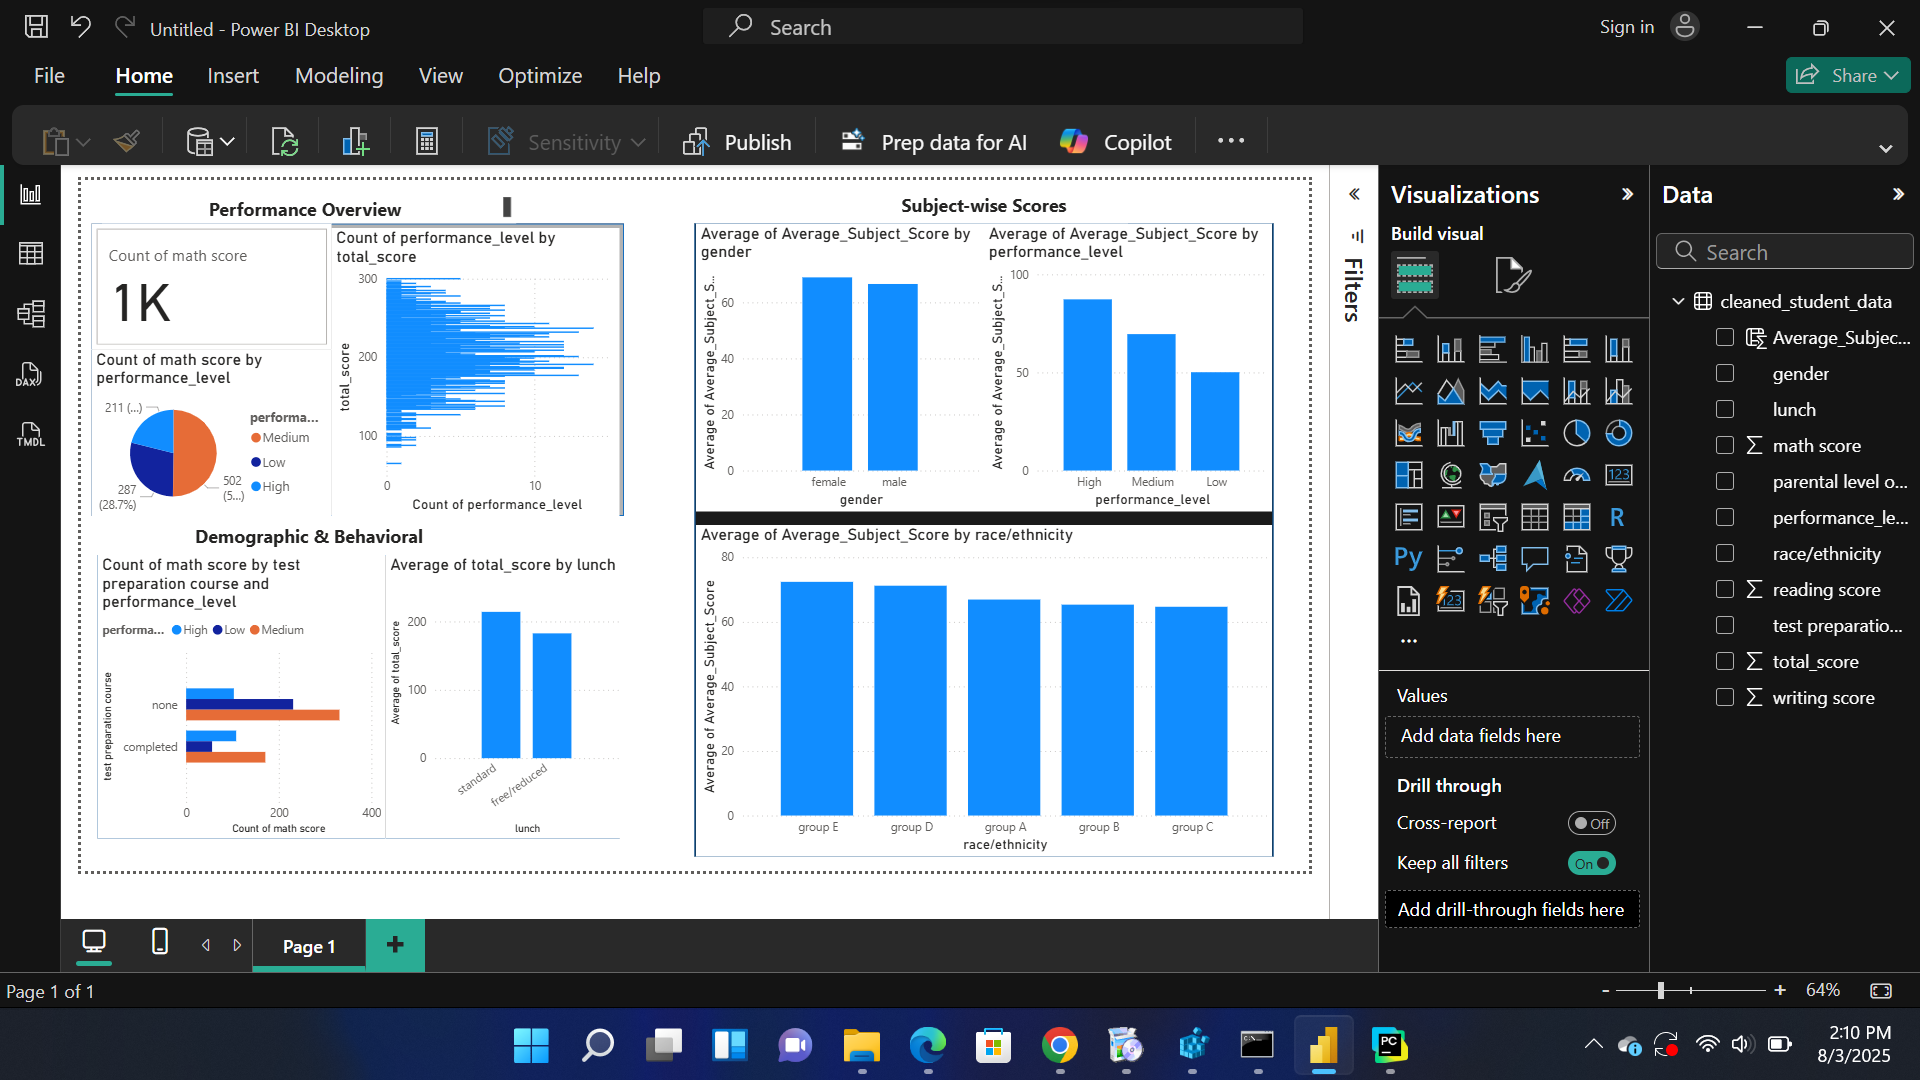

What the dashboard file says about the page in this screenshot:
{"tool":"powerbi","page":{"name":"Page 1","canvas":[1280,720],"ordinal":0},"visuals":[{"type":"shape","box":[10.9,45.3,554.7,304.7],"z":0},{"type":"shape","box":[17.2,390.6,543.8,295.3],"z":1000},{"type":"shape","box":[639.1,45.3,603.1,659.4],"z":2000},{"type":"textbox","box":[21.9,12.5,431.2,32.8],"z":3000},{"type":"textbox","box":[87.5,353.1,300,37.5],"z":4000},{"type":"textbox","box":[790.6,7.8,300,37.5],"z":5000},{"type":"cardVisual","fields":{"Data":["CountNonNull(cleaned_student_data.math score)"]},"box":[10.9,45.3,250,131.2],"z":6000},{"type":"clusteredColumnChart","fields":{"Category":["cleaned_student_data.performance_level"],"Y":["Avg(cleaned_student_data.Average_Subject_Score)"]},"box":[940.6,45.3,300,300],"z":7000},{"type":"pieChart","fields":{"Category":["cleaned_student_data.performance_level"],"Y":["CountNonNull(cleaned_student_data.math score)"]},"box":[10.9,176.6,250,176.6],"z":8000},{"type":"clusteredBarChart","fields":{"Category":["cleaned_student_data.total_score"],"Y":["CountNonNull(cleaned_student_data.performance_level)"]},"box":[260.9,50,300,300],"z":9000},{"type":"clusteredBarChart","fields":{"Y":["CountNonNull(cleaned_student_data.math score)"],"Category":["cleaned_student_data.test preparation course"],"Series":["cleaned_student_data.performance_level"]},"box":[17.2,390.6,300,295.3],"z":9002},{"type":"columnChart","fields":{"Category":["cleaned_student_data.lunch"],"Y":["Avg(cleaned_student_data.total_score)"]},"box":[317.2,390.6,248.4,295.3],"z":9003},{"type":"clusteredColumnChart","fields":{"Category":["cleaned_student_data.gender"],"Y":["Avg(cleaned_student_data.Average_Subject_Score)"]},"box":[640.6,45.3,300,300],"z":9004},{"type":"clusteredColumnChart","fields":{"Category":["cleaned_student_data.race/ethnicity"],"Y":["Avg(cleaned_student_data.Average_Subject_Score)"]},"box":[640.6,359.4,600,345.3],"z":9005}]}

Visuals, with their boxes on the page's 1280x720 design canvas (x1, y1, x2, y2). These are canvas units, not pixel positions in the 1920x1080 screenshot, which may show the page scaled, cropped or inside an application window:
shape: bbox=[11, 45, 566, 350]
shape: bbox=[17, 391, 561, 686]
shape: bbox=[639, 45, 1242, 705]
textbox: bbox=[22, 12, 453, 45]
textbox: bbox=[88, 353, 388, 391]
textbox: bbox=[791, 8, 1091, 45]
cardVisual - CountNonNull(cleaned_student_data.math score): bbox=[11, 45, 261, 176]
clusteredColumnChart - cleaned_student_data.performance_level x Avg(cleaned_student_data.Average_Subject_Score): bbox=[941, 45, 1241, 345]
pieChart - cleaned_student_data.performance_level x CountNonNull(cleaned_student_data.math score): bbox=[11, 177, 261, 353]
clusteredBarChart - cleaned_student_data.total_score x CountNonNull(cleaned_student_data.performance_level): bbox=[261, 50, 561, 350]
clusteredBarChart - CountNonNull(cleaned_student_data.math score) x cleaned_student_data.test preparation course: bbox=[17, 391, 317, 686]
columnChart - cleaned_student_data.lunch x Avg(cleaned_student_data.total_score): bbox=[317, 391, 566, 686]
clusteredColumnChart - cleaned_student_data.gender x Avg(cleaned_student_data.Average_Subject_Score): bbox=[641, 45, 941, 345]
clusteredColumnChart - cleaned_student_data.race/ethnicity x Avg(cleaned_student_data.Average_Subject_Score): bbox=[641, 359, 1241, 705]
